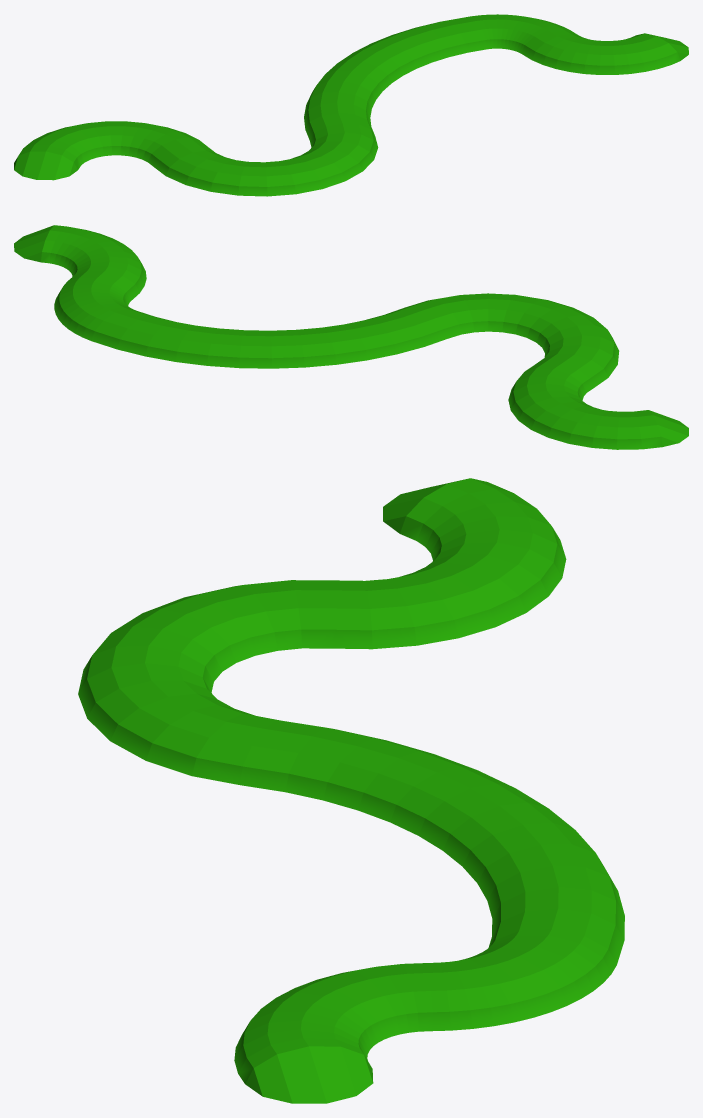
File: Vegetation_Verdant_Grass_Topiary_Curves_01.FBX
The picture shows the model from 3 angles, top to bottom: view 1: azimuth 30°, elevation 25°; view 2: azimuth 150°, elevation 25°; view 3: azimuth 270°, elevation 25°; orthographic projection. The views are drawn at different scales.
Parts seen in each view (by area): view 1: Vegetation_Verdant_Grass_Topiary_Curves_01; view 2: Vegetation_Verdant_Grass_Topiary_Curves_01; view 3: Vegetation_Verdant_Grass_Topiary_Curves_01.
Part boxes in pixels (bbox=[...]): Vegetation_Verdant_Grass_Topiary_Curves_01: bbox=[14, 14, 688, 196]; Vegetation_Verdant_Grass_Topiary_Curves_01: bbox=[14, 225, 688, 449]; Vegetation_Verdant_Grass_Topiary_Curves_01: bbox=[78, 478, 624, 1103].
Bounding box in the file's own units: 11111 × 254 × 4164.
